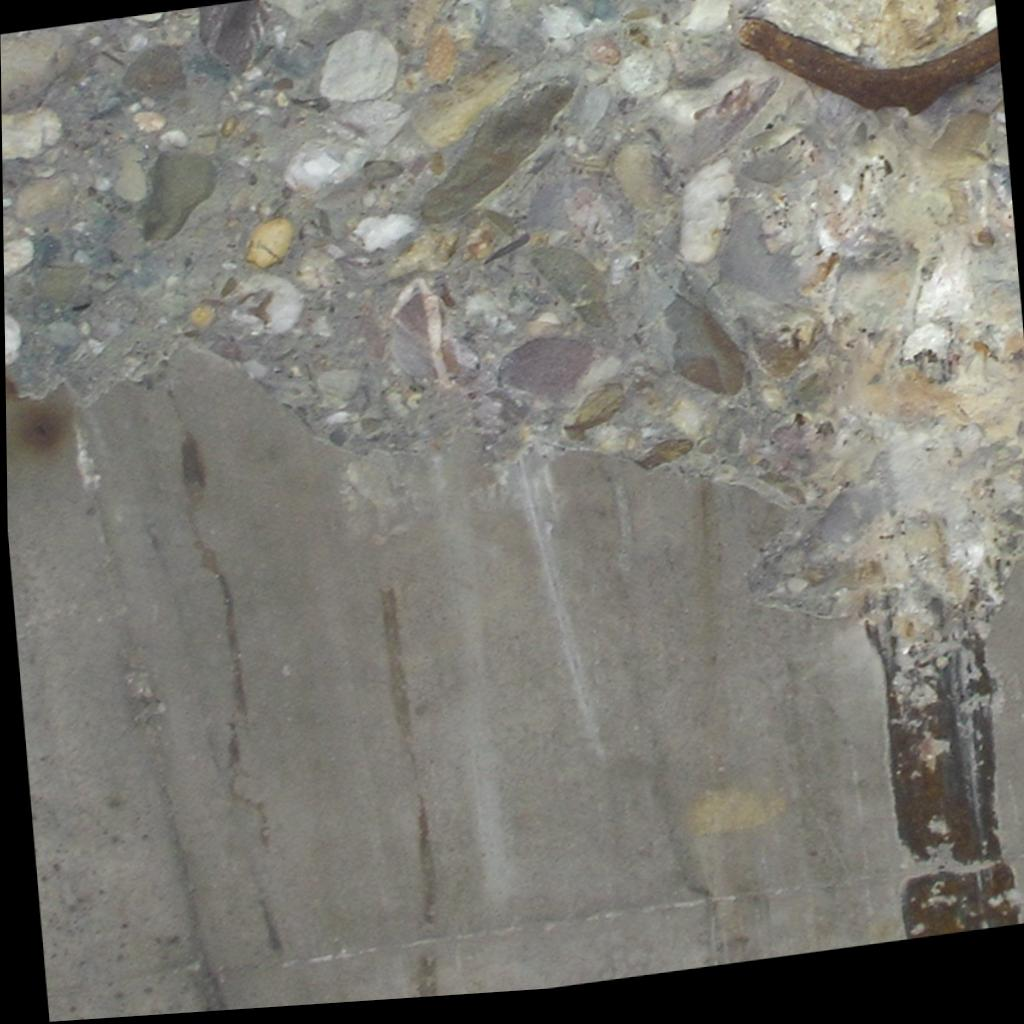exposed_rebar: (740, 19, 999, 115)
spalling: (1, 0, 1024, 938)
